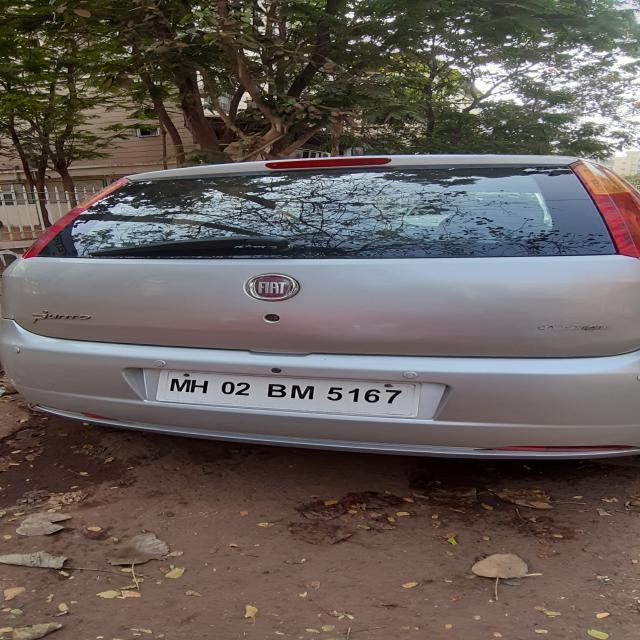Number-Plate: (159, 374, 411, 415)
